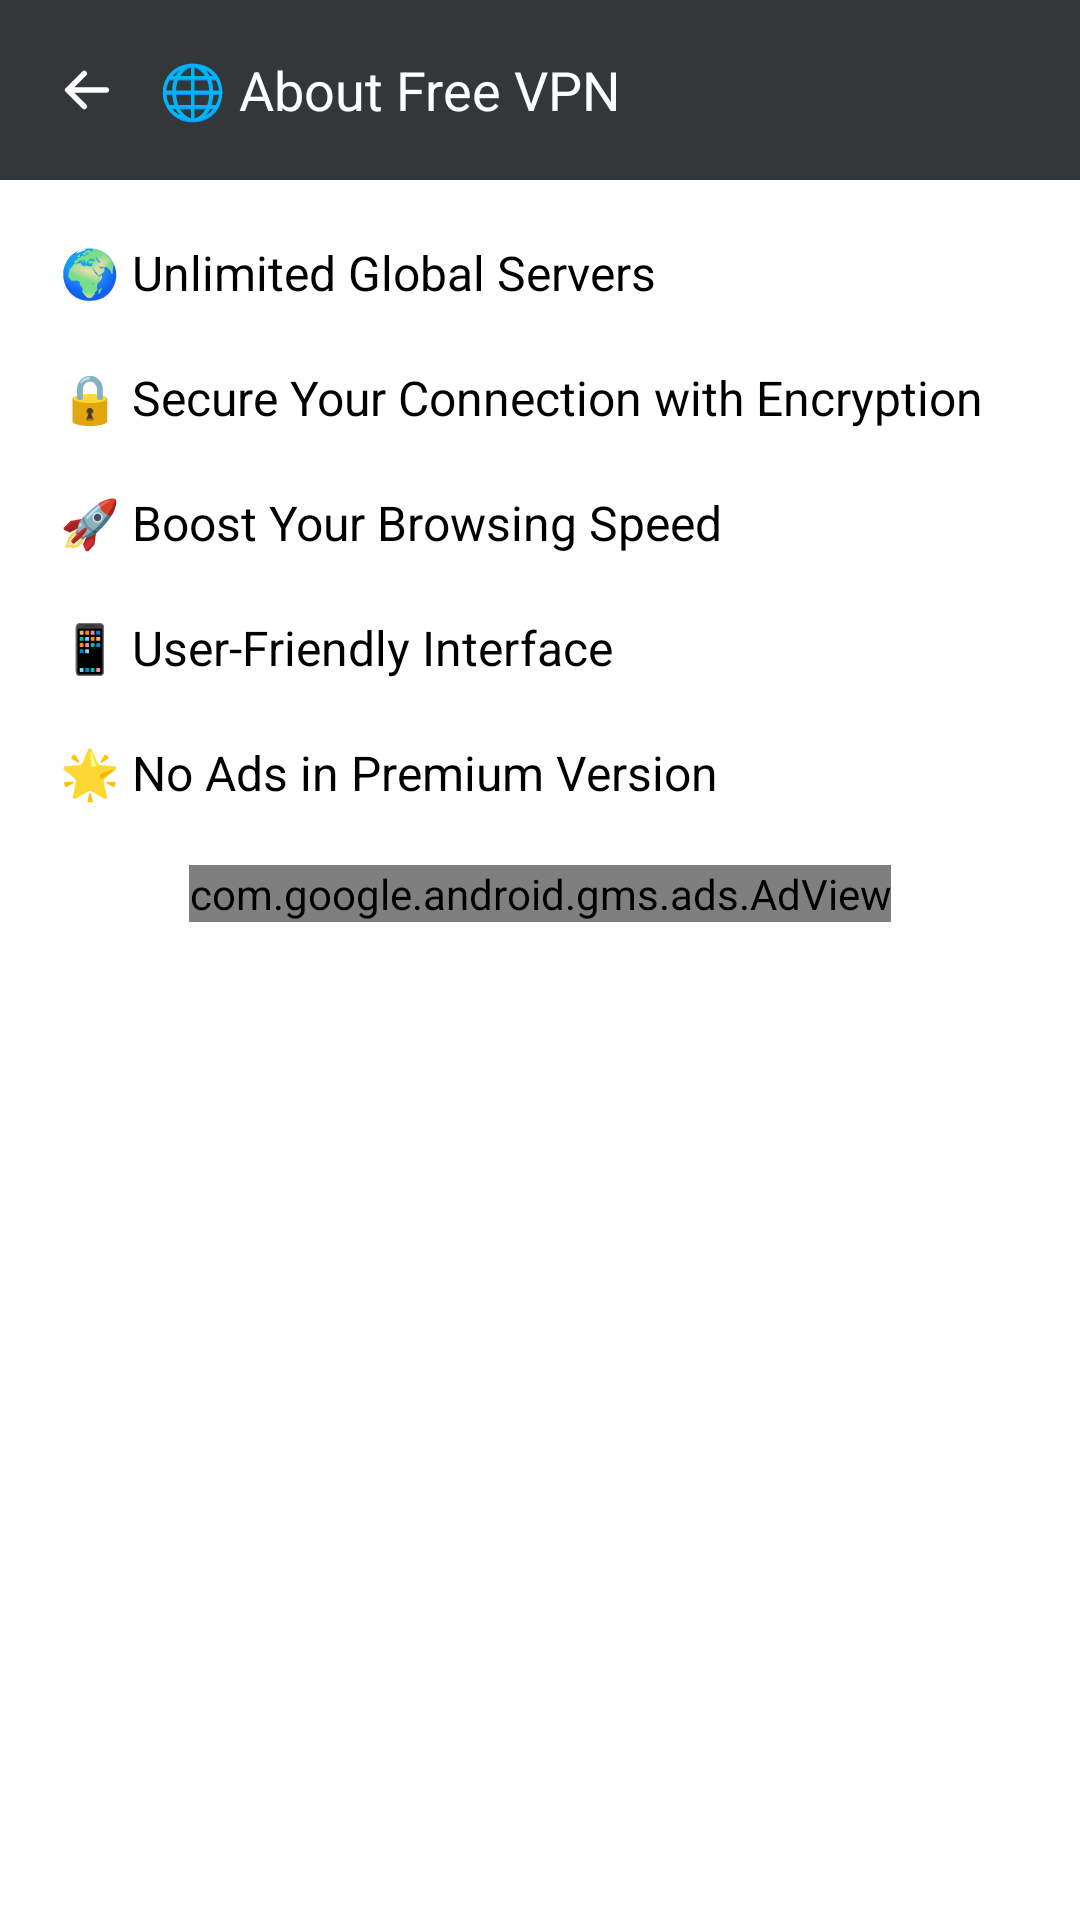

Locate icon controls on the screen. Image size 1080x1920, boxes as (x1, y1, x2, y2).
arrow back: (65, 70, 109, 110)
